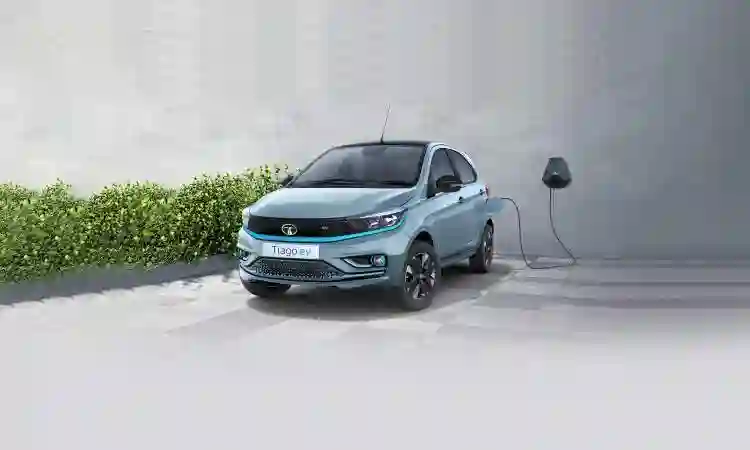Tiago: (230, 135, 501, 314)
